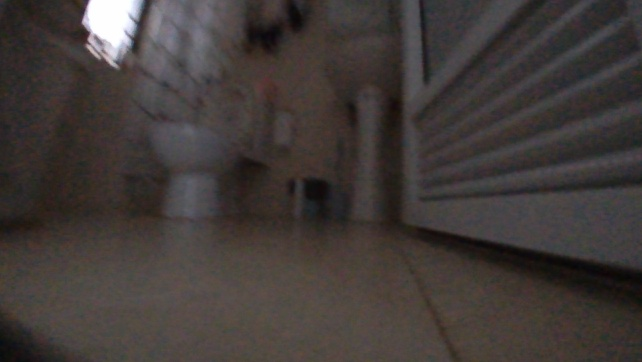door_anno: (387, 0, 641, 278)
toilet: (148, 118, 236, 220)
